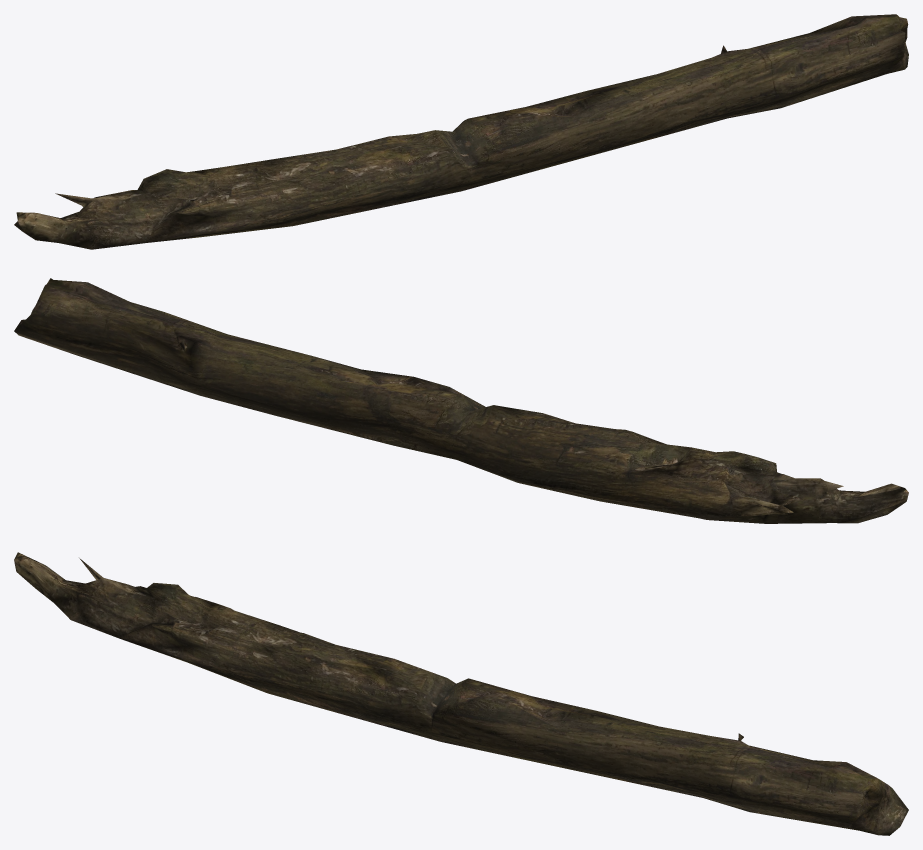
Rendered from log-0-far.glb.
The picture shows the model from 3 angles, top to bottom: view 1: azimuth 30°, elevation 25°; view 2: azimuth 150°, elevation 25°; view 3: azimuth 330°, elevation 25°; orthographic projection.
Visible parts, largest first — view 1: dead_tree_trunk; view 2: dead_tree_trunk; view 3: dead_tree_trunk.
Part boxes in pixels (box(x1,y1,x2,y2)): dead_tree_trunk: box(14, 14, 908, 249); dead_tree_trunk: box(14, 278, 908, 523); dead_tree_trunk: box(14, 552, 908, 835).
Bounding box in the file's own units: 3.04 × 0.2714 × 0.2629.
Materials: 1 (1 with a texture image).
